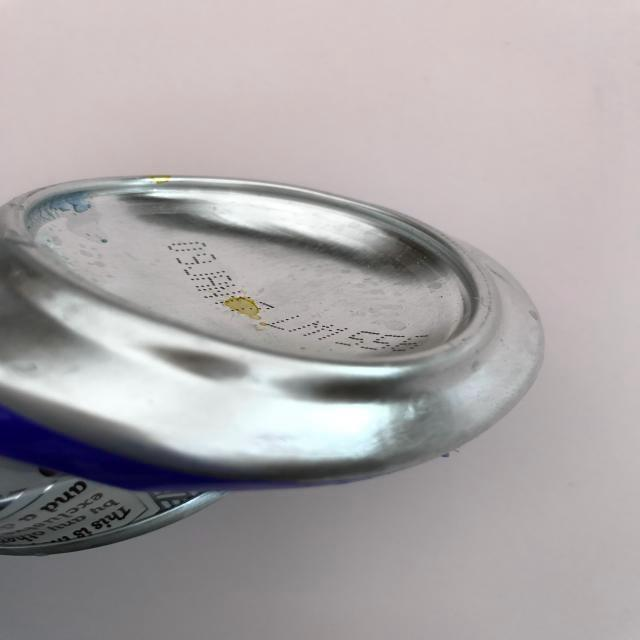metal: (5, 166, 602, 573)
